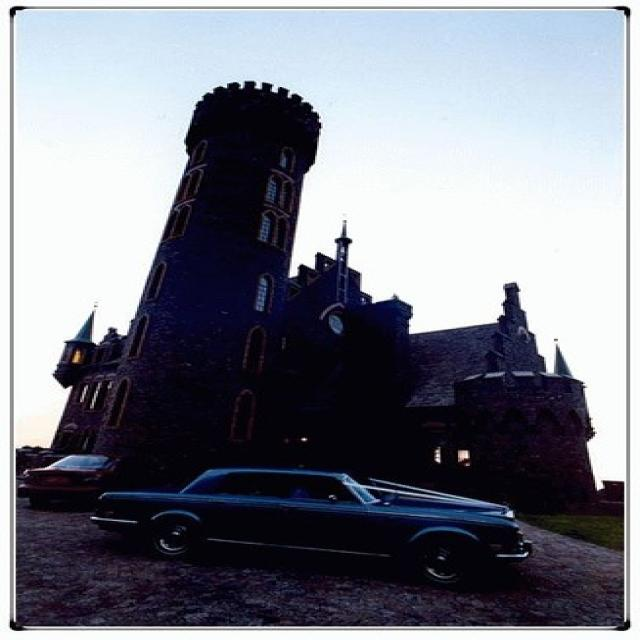car: (88, 467, 536, 585), (22, 448, 125, 504)
